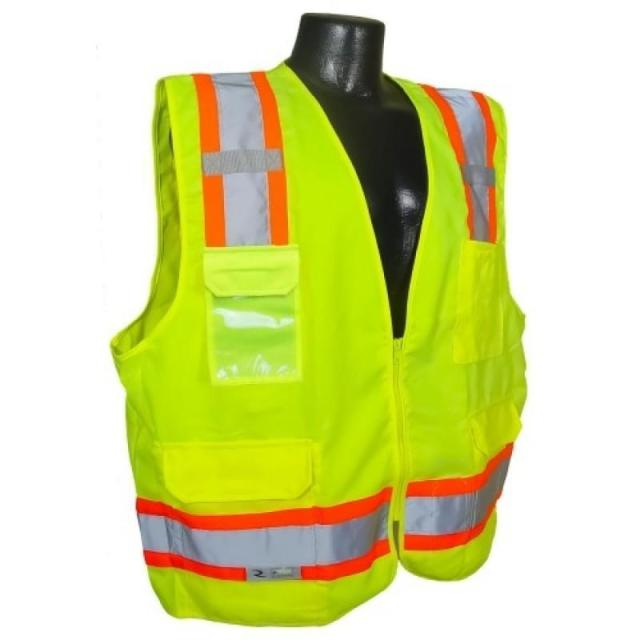Vest: (108, 49, 529, 626)
